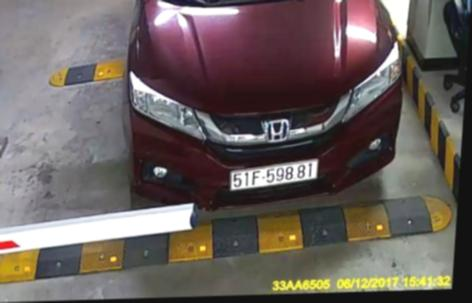License_Plate: (225, 158, 323, 191)
